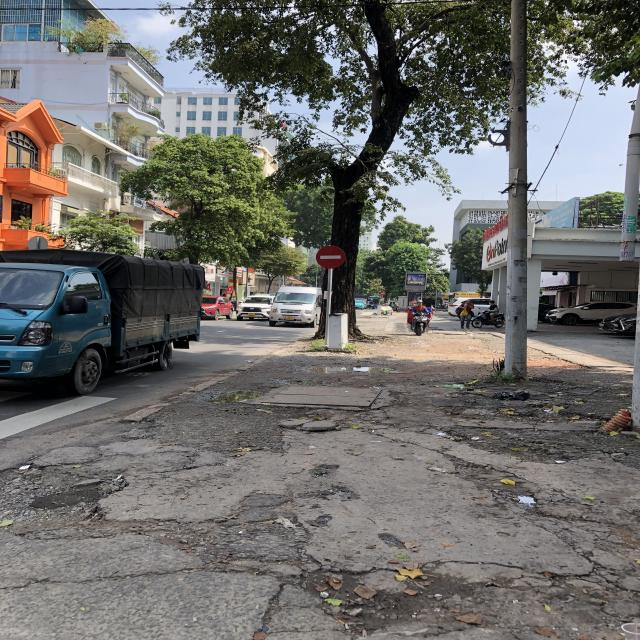Bien bao cam di nguoc chieu: (312, 244, 348, 271)
